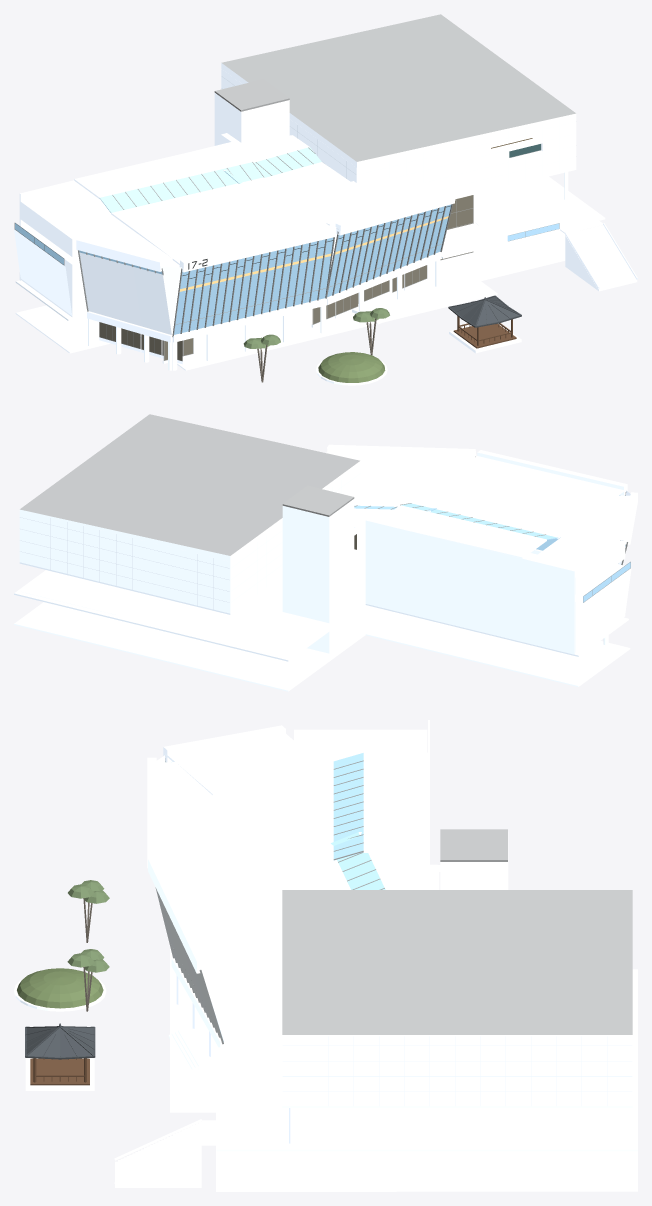
The picture shows the model from 3 angles, top to bottom: view 1: azimuth 30°, elevation 25°; view 2: azimuth 150°, elevation 25°; view 3: azimuth 270°, elevation 25°; orthographic projection. The views are drawn at different scales.
Parts seen in each view (by area): view 1: museum__roof, museum__gallery-roof, museum__foundation, museum__rear-wall, museum__inclined-glass, museum__sloped-endwall, museum__gallery-roof-extension, museum__inclined-frame, museum__inner-roof-strip, museum__pilotis-soffit, museum__rooflight-glass, museum__opaque-panel (+21 smaller); view 2: museum__roof, museum__rear-inner-wall, museum__foundation, museum__gallery-roof, museum__rear-wall, museum__pilotis-soffit, museum__service-core, museum__gallery-roof-extension, museum__inner-roof-strip, museum__terrace-floor, museum__sloped-endwall, museum__left-wing (+4 smaller); view 3: museum__roof, museum__gallery-roof, museum__rear-wall, museum__foundation, museum__pilotis-soffit, museum__terrace-floor, museum__gallery-roof-extension, museum__inner-roof-strip, museum__rooflight-glass, museum__garden-grass, museum__pavilion-roof, museum__joint (+11 smaller).
Part boxes in pixels (bbox=[...]): museum__roof: bbox=[214, 14, 575, 161]; museum__gallery-roof: bbox=[20, 176, 455, 272]; museum__foundation: bbox=[15, 230, 576, 370]; museum__rear-wall: bbox=[221, 69, 576, 197]; museum__inclined-glass: bbox=[174, 204, 451, 334]; museum__sloped-endwall: bbox=[14, 229, 171, 334]; museum__gallery-roof-extension: bbox=[111, 162, 350, 234]; museum__inclined-frame: bbox=[78, 204, 452, 336]; museum__inner-roof-strip: bbox=[74, 133, 309, 199]; museum__pilotis-soffit: bbox=[15, 176, 605, 320]; museum__rooflight-glass: bbox=[99, 147, 321, 212]; museum__opaque-panel: bbox=[175, 218, 447, 324]; museum__roof: bbox=[20, 414, 359, 555]; museum__rear-inner-wall: bbox=[365, 520, 575, 654]; museum__foundation: bbox=[14, 602, 630, 691]; museum__gallery-roof: bbox=[326, 444, 637, 578]; museum__rear-wall: bbox=[19, 466, 360, 613]; museum__pilotis-soffit: bbox=[14, 527, 628, 661]; museum__service-core: bbox=[282, 499, 354, 653]; museum__gallery-roof-extension: bbox=[347, 483, 584, 538]; museum__inner-roof-strip: bbox=[342, 505, 546, 558]; museum__terrace-floor: bbox=[21, 571, 143, 614]; museum__sloped-endwall: bbox=[575, 561, 631, 650]; museum__left-wing: bbox=[575, 543, 625, 652]; museum__roof: bbox=[282, 829, 632, 1034]; museum__gallery-roof: bbox=[147, 725, 427, 973]; museum__rear-wall: bbox=[282, 1036, 632, 1105]; museum__foundation: bbox=[170, 946, 637, 1191]; museum__pilotis-soffit: bbox=[202, 959, 637, 1151]; museum__terrace-floor: bbox=[277, 1084, 628, 1147]; museum__gallery-roof-extension: bbox=[261, 761, 350, 899]; museum__inner-roof-strip: bbox=[358, 752, 440, 889]; museum__rooflight-glass: bbox=[331, 753, 385, 889]; museum__garden-grass: bbox=[17, 968, 103, 1008]; museum__pavilion-roof: bbox=[25, 1023, 95, 1059]; museum__joint: bbox=[282, 1036, 632, 1105].
Bounding box in the file's own units: 84.12 × 22.95 × 68.96.
